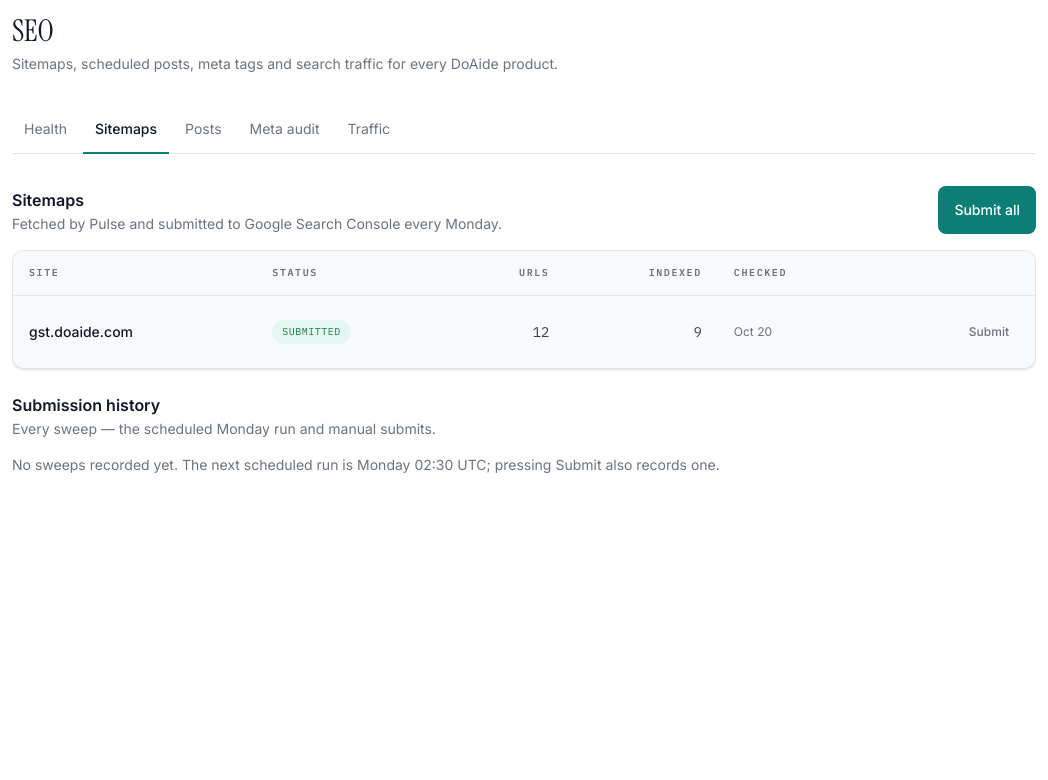
Test case: SEO page — sitemaps › shows a failed submission instead of swallowing it
What coordinates should you click on to do the following:
click the button "Submit all"
I would click on:
 (987, 210)
Its box is [938,186,1036,234].
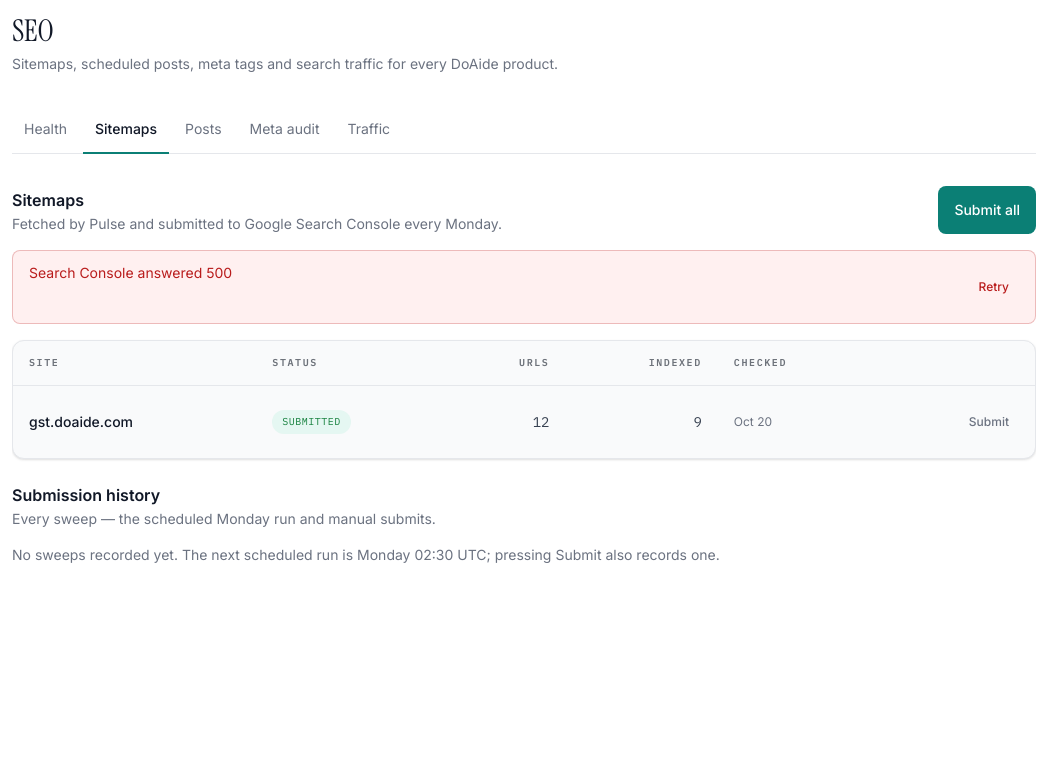
Now the message shows "Search Console answered 500", box [29,264,232,280]
